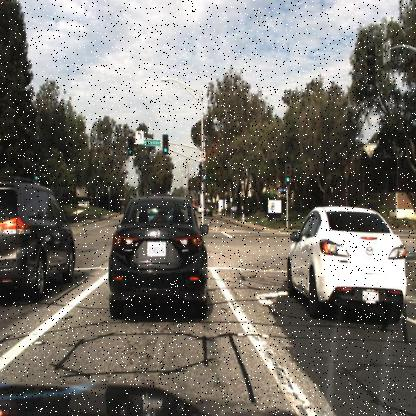car: (285, 205, 409, 323), (107, 194, 209, 322), (1, 173, 77, 302), (202, 202, 214, 220)
trafficLight-Green: (284, 164, 294, 187), (160, 134, 168, 158), (199, 163, 208, 181)
trafficLight-GreenLeft: (30, 164, 42, 185), (127, 132, 135, 159)
